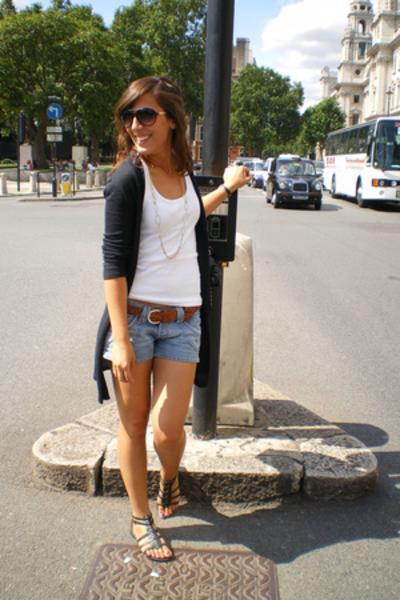jacket: (91, 156, 225, 388)
shirt: (132, 180, 201, 306)
shoe: (161, 479, 188, 515)
shorts: (122, 307, 200, 364)
sunglass: (118, 96, 157, 125)
